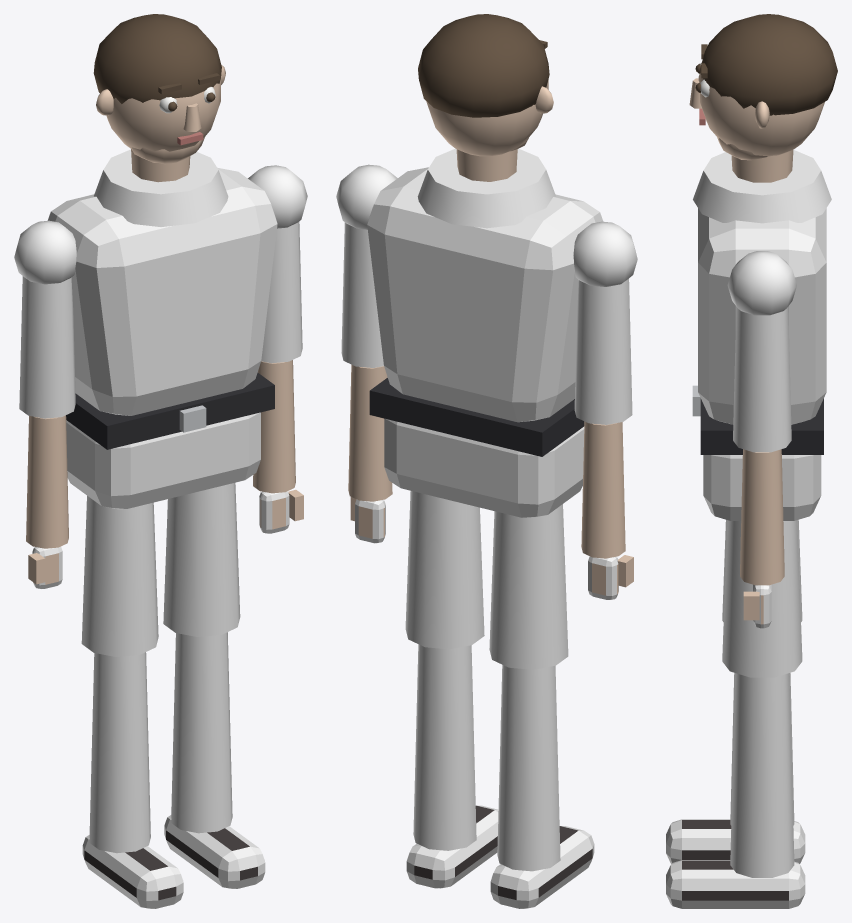
Rendered from person_m.gltf.
3 views of the same model, side by side, from view 1: azimuth 30°, elevation 25°; view 2: azimuth 150°, elevation 25°; view 3: azimuth 270°, elevation 25° (orthographic). The views are drawn at different scales.
Visible parts, largest first — view 1: person_m, LegR, LegL, ArmR, ArmL; view 2: person_m, LegR, LegL, ArmR, ArmL; view 3: person_m, LegL, ArmL, LegR.
Boxes of the visible parts, x1,y1,x2,y2 form: person_m: [47, 14, 277, 509]; LegR: [81, 496, 183, 908]; LegL: [163, 483, 265, 888]; ArmR: [14, 220, 76, 588]; ArmL: [248, 165, 307, 533]; person_m: [367, 14, 603, 517]; LegR: [489, 504, 594, 908]; LegL: [405, 491, 498, 888]; ArmR: [573, 221, 637, 599]; ArmL: [336, 164, 397, 543]; person_m: [689, 14, 837, 520]; LegL: [666, 520, 805, 908]; ArmL: [727, 251, 796, 628]; LegR: [666, 520, 805, 863].
Bounding box in the file's own units: 0.1247 × 0.3557 × 0.0643.
